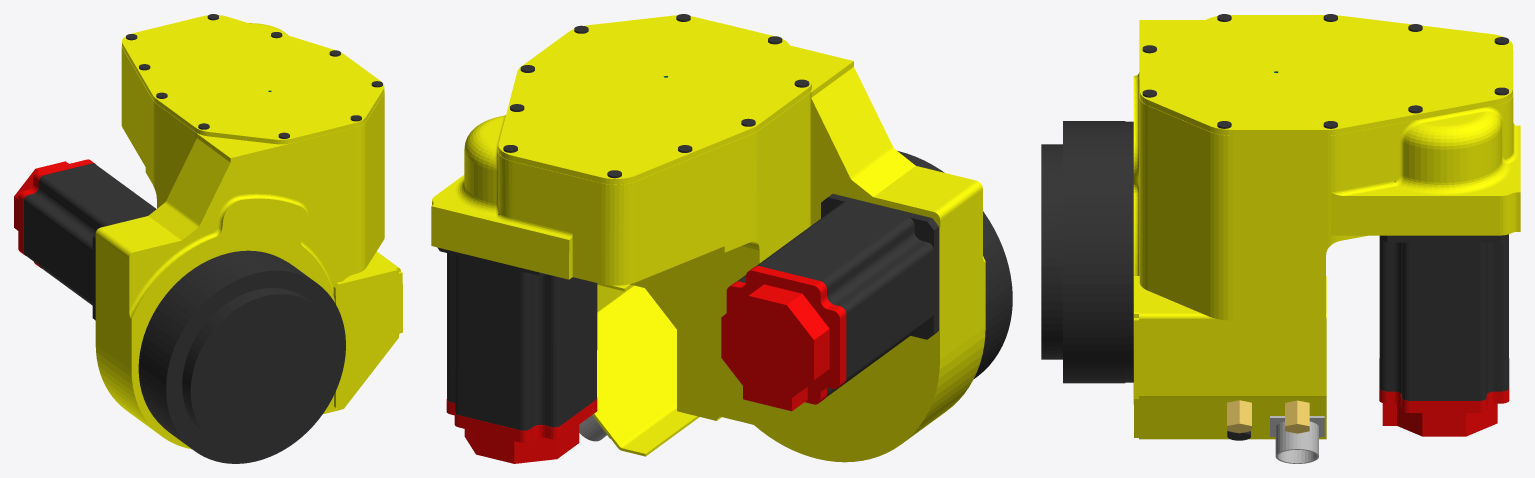
3 views of the same model, side by side, from view 1: azimuth 30°, elevation 25°; view 2: azimuth 150°, elevation 25°; view 3: azimuth 270°, elevation 25° (orthographic). The views are drawn at different scales.
Visible parts, largest first — view 1: node; view 2: node; view 3: node.
Part boxes in pixels (left/top/right/bottom): node: left=14, top=14, right=402, bottom=463; node: left=431, top=14, right=1012, bottom=463; node: left=1041, top=14, right=1520, bottom=463.
Bounding box in the file's own units: 293 × 284 × 333.
